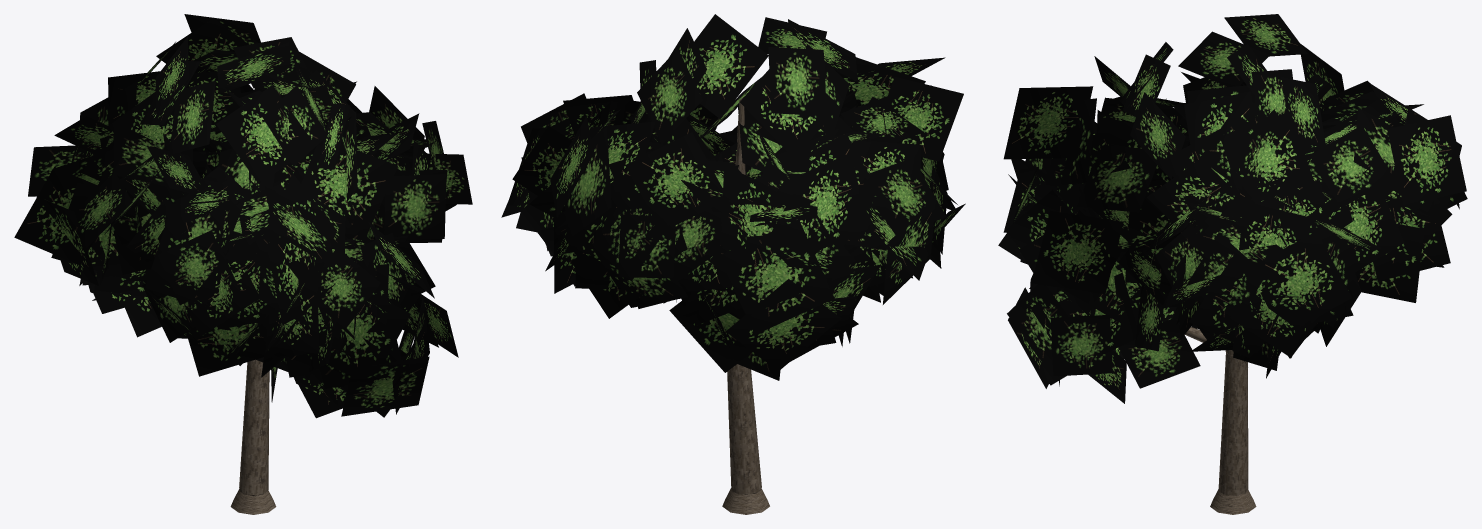
File: tree.glb
The picture shows the model from 3 angles, left to right: view 1: azimuth 30°, elevation 25°; view 2: azimuth 150°, elevation 25°; view 3: azimuth 270°, elevation 25°; orthographic projection. The views are drawn at different scales.
Visible parts, largest first — view 1: foliage, wood; view 2: foliage, wood; view 3: foliage, wood.
Part boxes in pixels (x1,y1,x2,y2): foliage: (14, 14, 472, 418); wood: (230, 359, 276, 514); foliage: (501, 14, 965, 380); wood: (722, 98, 769, 514); foliage: (998, 14, 1467, 403); wood: (1185, 327, 1256, 514).
Size of the model in its own units: 6.92 by 7.48 by 6.77.
2 materials, 2 textured.
